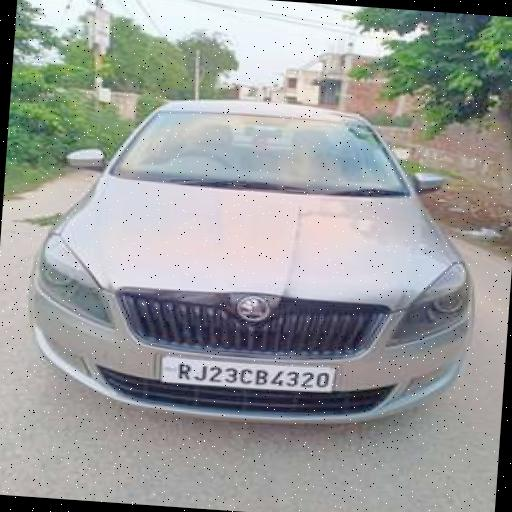license_plate`: (156, 352, 336, 395)
